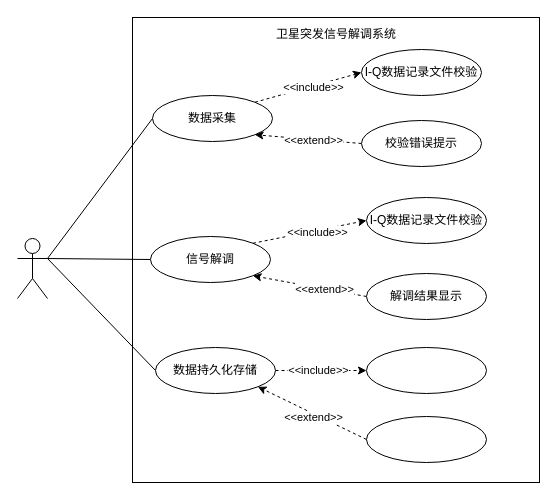
The diagram is 558 pixels wide and 500 high, and some of its shapes have lost their labels. Here are the shapes that lost their labels. From the top down, the box of each, then its label:
(16, 238, 48, 298): 用户
(366, 346, 486, 394): 目录选择
(366, 416, 486, 462): 存储错误提示
